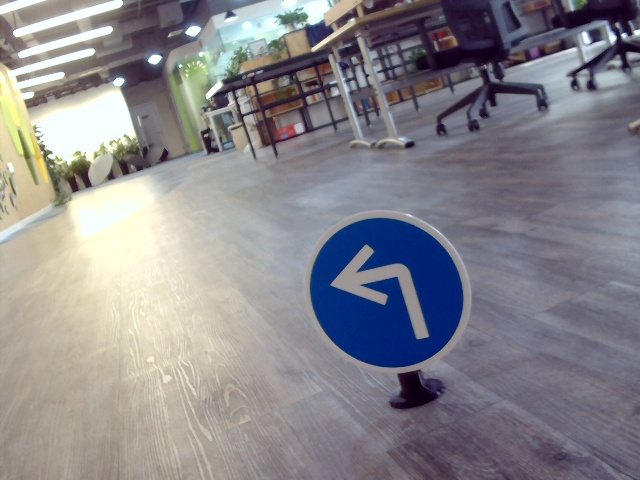turn_left: (329, 238, 436, 339)
